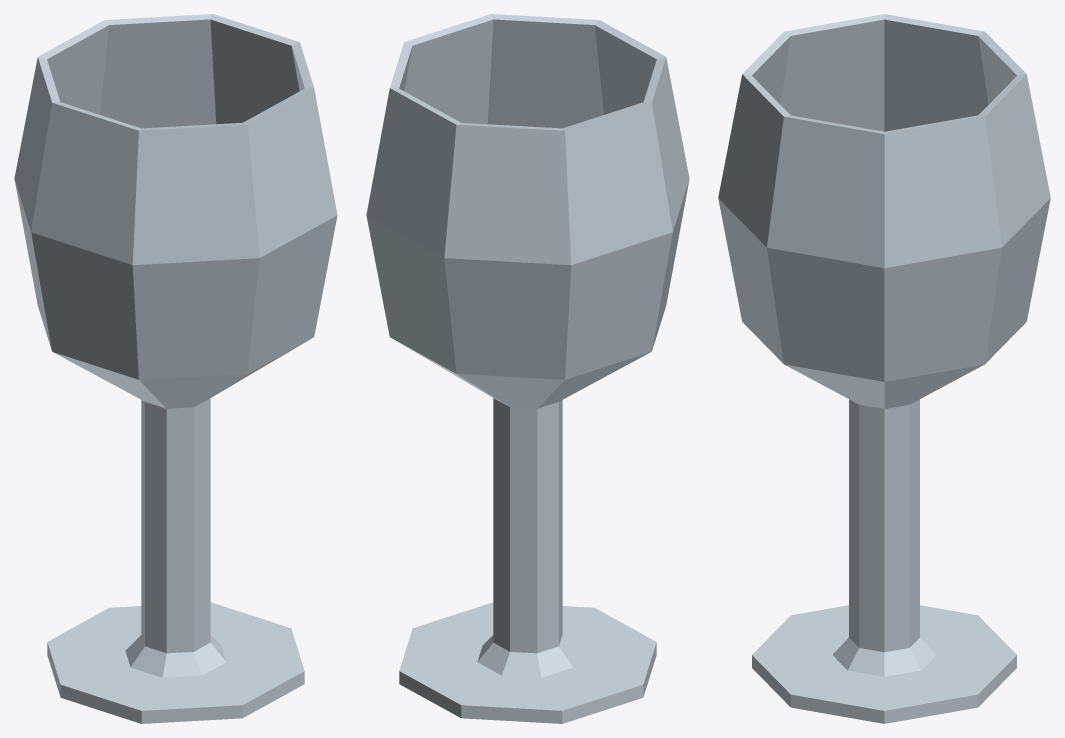
File: glass.fbx
3 renders of one model, left to right at view 1: azimuth 30°, elevation 25°; view 2: azimuth 150°, elevation 25°; view 3: azimuth 270°, elevation 25°, orthographic.
Visible parts, largest first — view 1: Cylinder.008, Cylinder.007; view 2: Cylinder.008, Cylinder.007; view 3: Cylinder.008, Cylinder.007.
Part boxes in pixels (x1,y1,x2,y2): Cylinder.008: [14, 14, 337, 677]; Cylinder.007: [47, 602, 304, 723]; Cylinder.008: [366, 14, 689, 677]; Cylinder.007: [399, 602, 656, 723]; Cylinder.008: [718, 14, 1050, 676]; Cylinder.007: [752, 605, 1016, 723].
Bounding box in the file's own units: 10.24 × 20.17 × 10.24.
